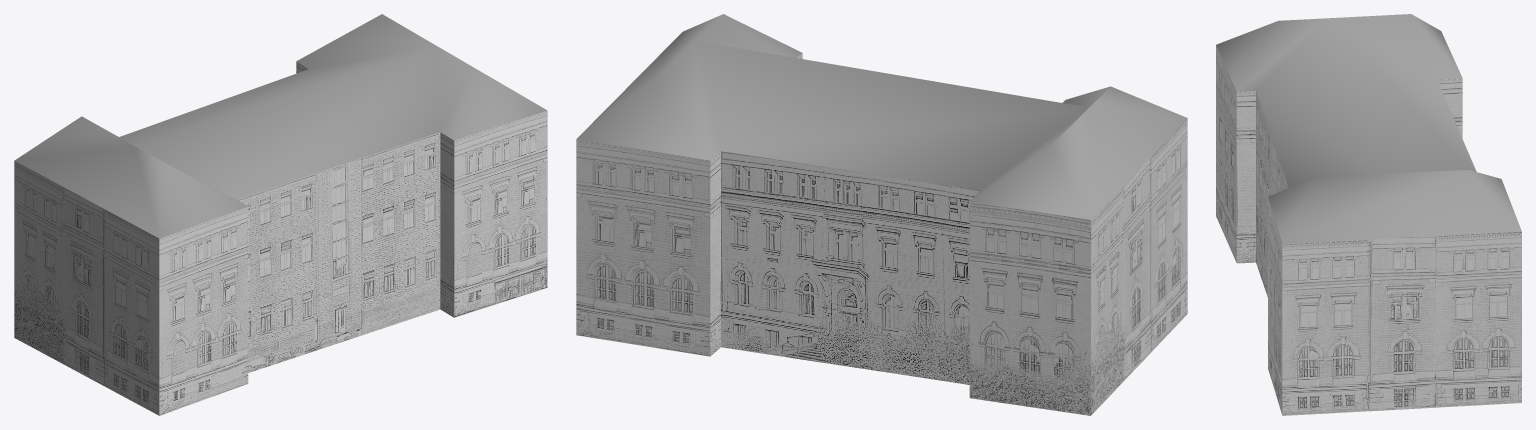
File: Berndt-Bau.gltf
The picture shows the model from 3 angles, left to right: view 1: azimuth 30°, elevation 25°; view 2: azimuth 150°, elevation 25°; view 3: azimuth 270°, elevation 25°; orthographic projection. The views are drawn at different scales.
Visible parts, largest first — view 1: Dach.1; view 2: Dach.1; view 3: Dach.1.
Boxes of the visible parts, box(x1,y1,x2,y2) form: Dach.1: box(14, 14, 547, 415); Dach.1: box(576, 14, 1187, 415); Dach.1: box(1216, 14, 1521, 415).
Bounding box in the file's own units: 47.92 × 22.36 × 29.03.
10 materials, 9 textured.
